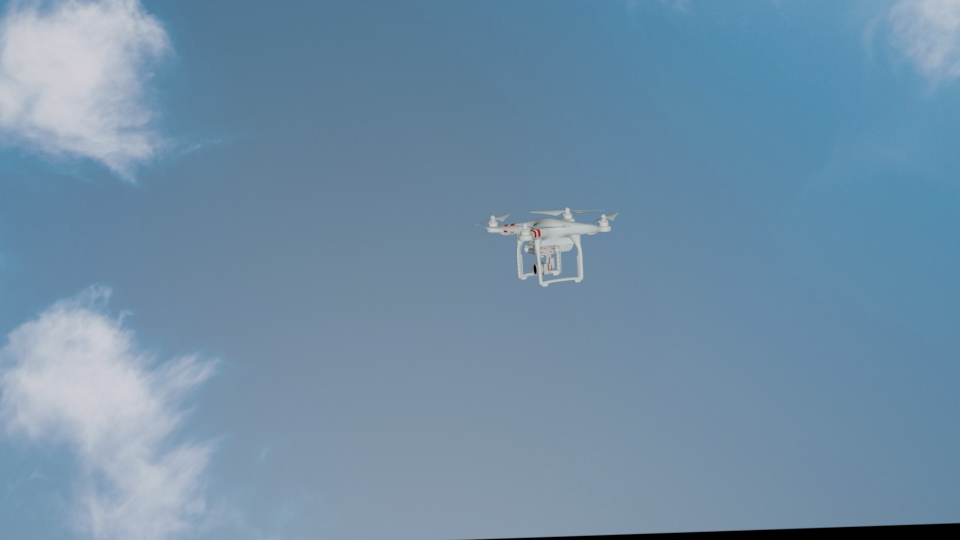drone: (478, 200, 615, 287)
